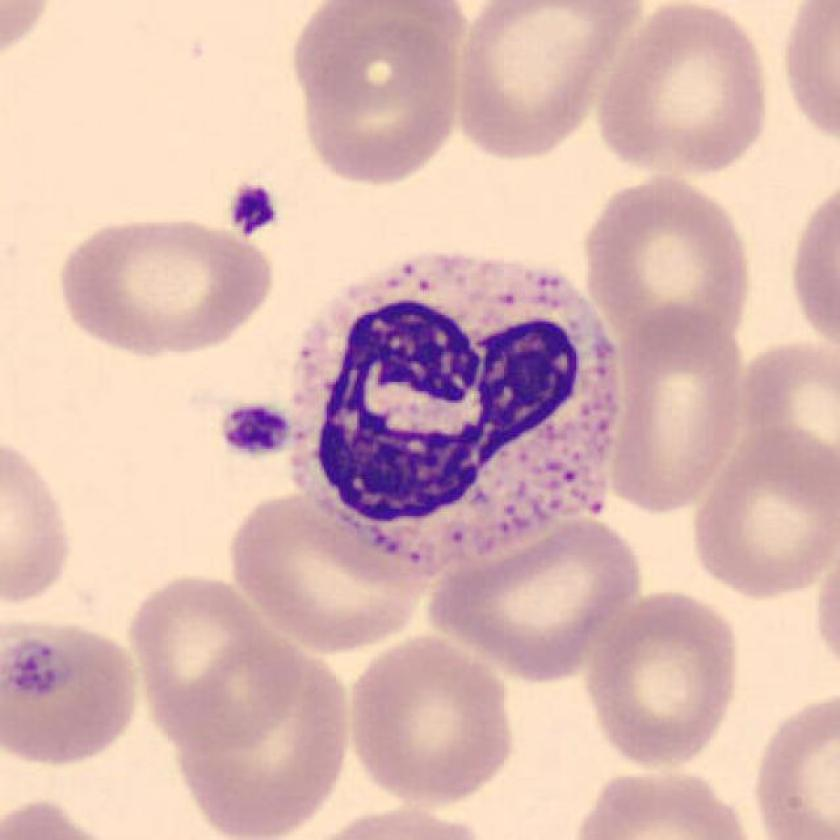neutrophil: (295, 253, 622, 559)
